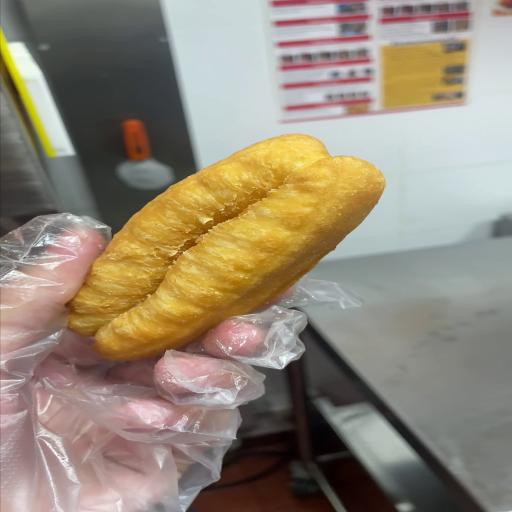brand_golden_good: (68, 134, 384, 360)
